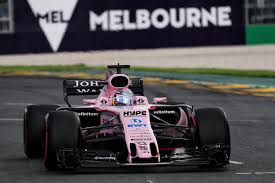f1_car: (18, 60, 237, 175)
